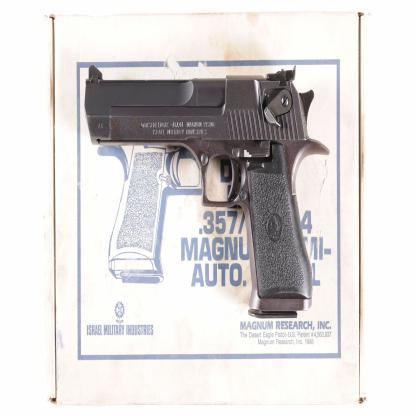Pistol: (80, 63, 329, 320)
